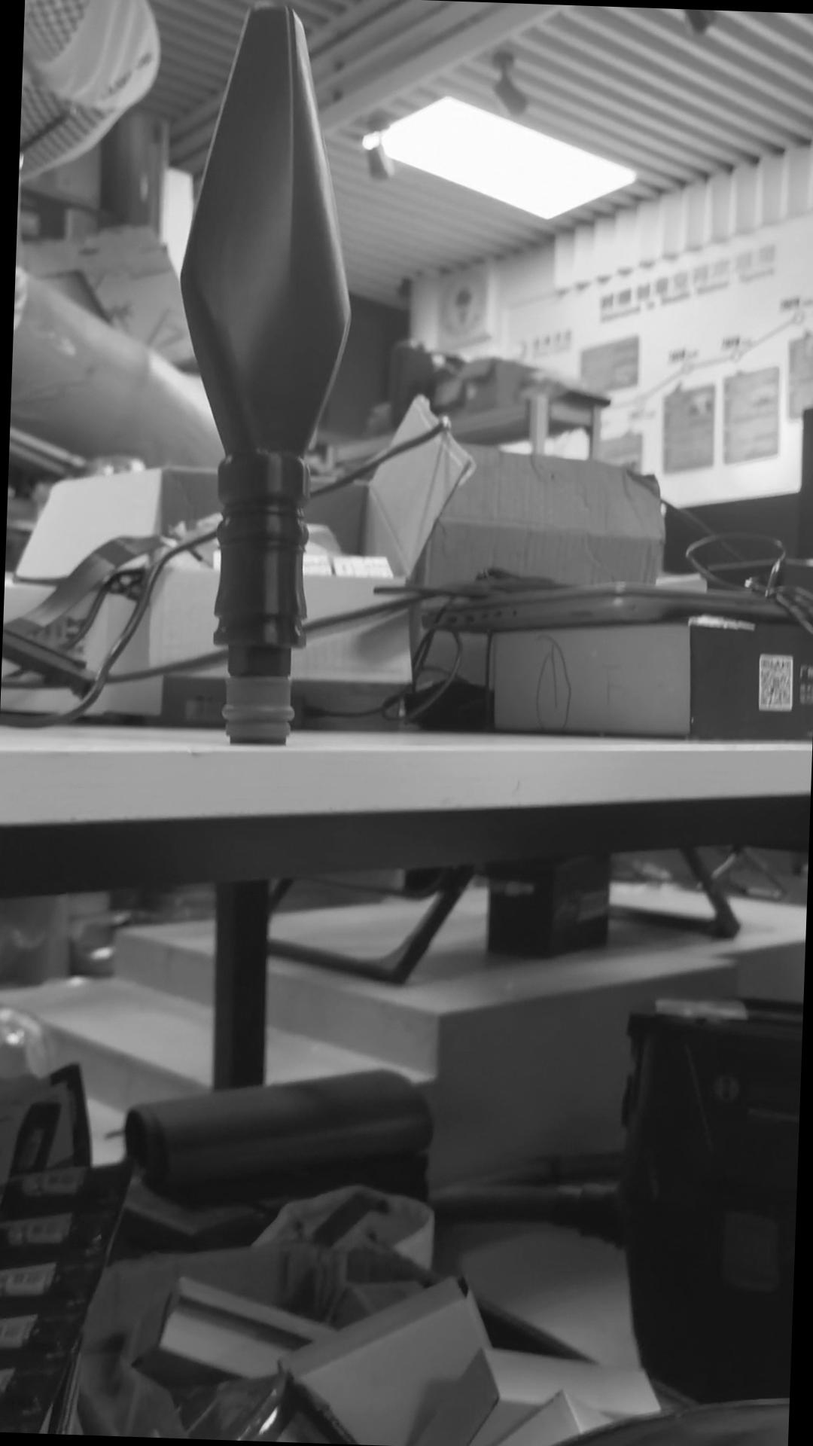base: (215, 662, 302, 758)
